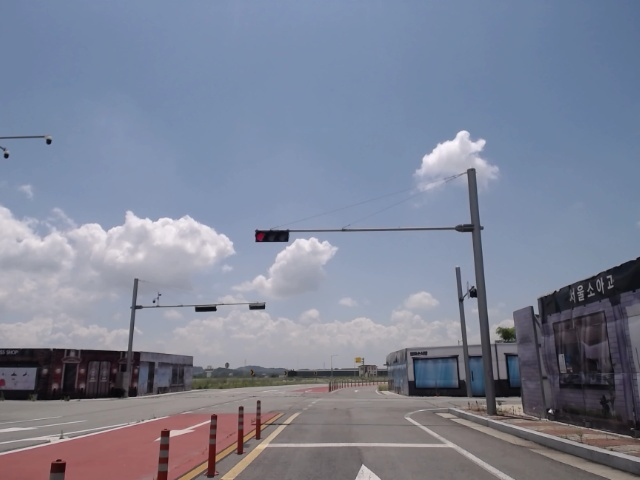red_3: (255, 229, 291, 242)
